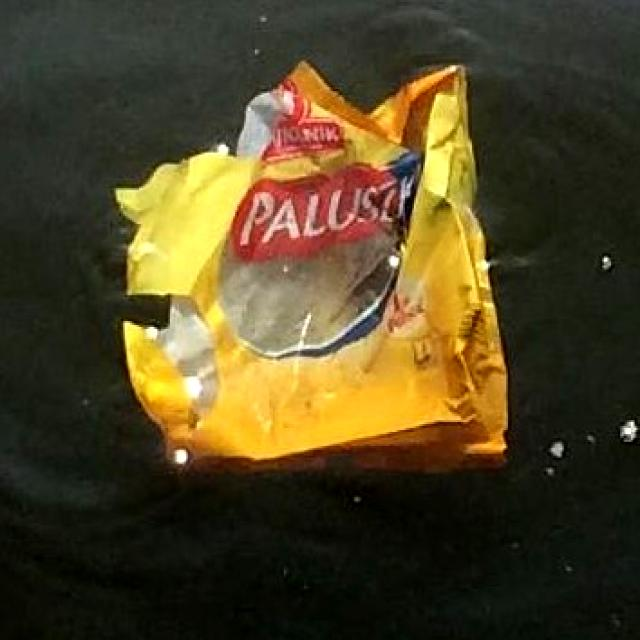Trash: (112, 58, 515, 475)
